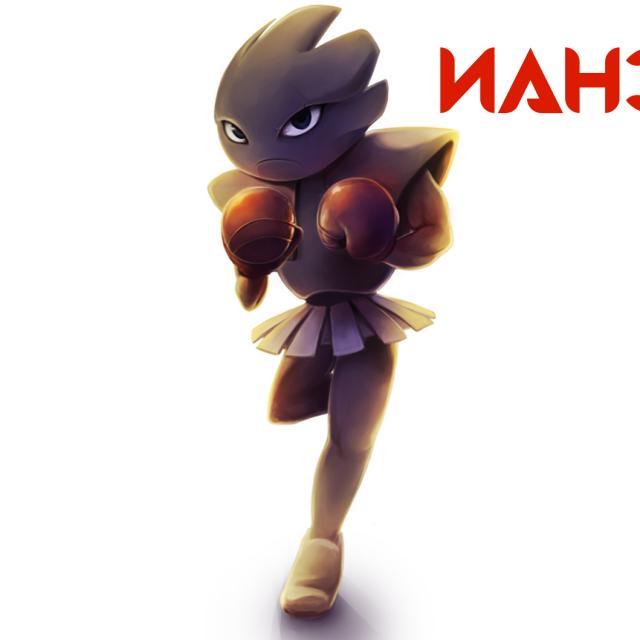Hitmonchan: (207, 8, 456, 616)
